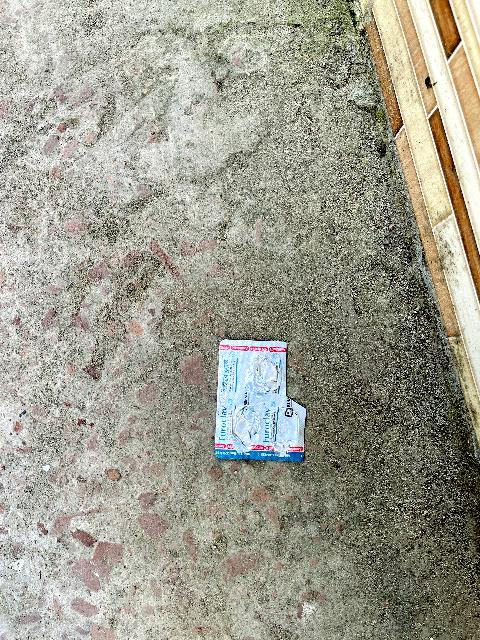medicine: (219, 332, 304, 474)
